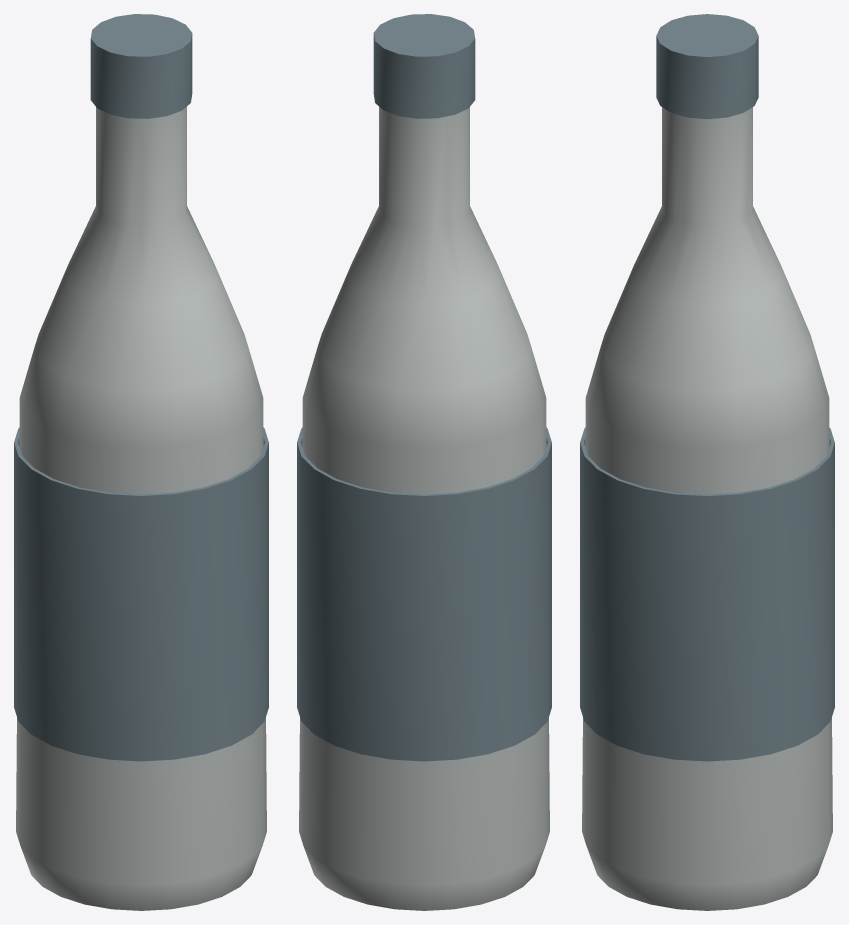
File: beer-bottle.glb
3 views of the same model, side by side, from view 1: azimuth 30°, elevation 25°; view 2: azimuth 150°, elevation 25°; view 3: azimuth 270°, elevation 25° (orthographic).
Parts seen in each view (by area): view 1: bottle_body, raised_label, closure; view 2: bottle_body, raised_label, closure; view 3: bottle_body, raised_label, closure.
Boxes of the visible parts, <box> form: bottle_body: <box>16,106,266,910</box>; raised_label: <box>14,427,268,761</box>; closure: <box>90,14,192,118</box>; bottle_body: <box>299,106,549,910</box>; raised_label: <box>297,427,551,761</box>; closure: <box>373,14,475,118</box>; bottle_body: <box>582,107,832,910</box>; raised_label: <box>580,427,834,761</box>; closure: <box>656,14,758,119</box>.
Bounding box in the file's own units: 0.067 × 0.24 × 0.067.
